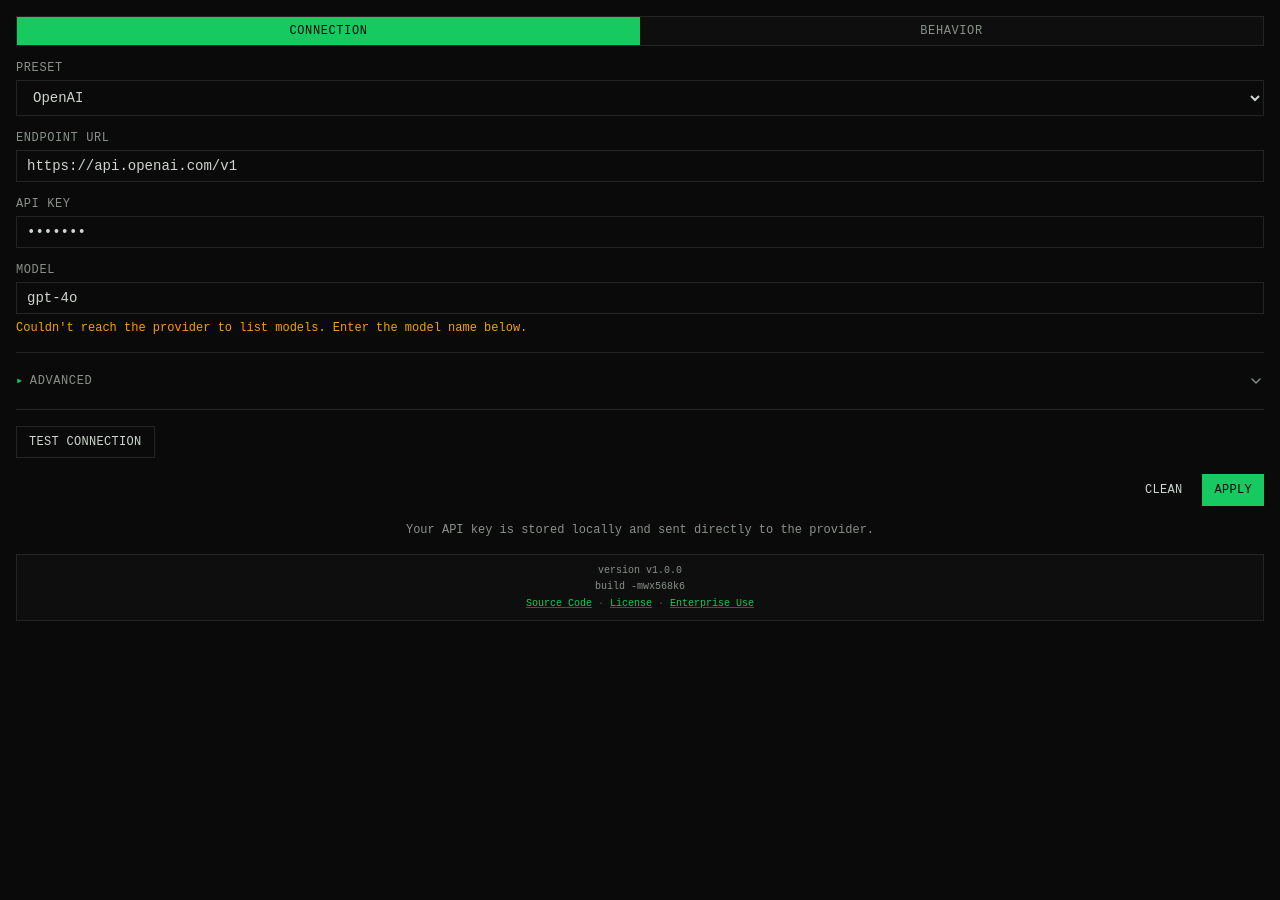
Test: SettingsPanel › shows 'Applied!' feedback after clicking Apply
Check: the text "Applied!" is not shown
What coordinates should you click on to do the following:
click the button "Apply"
I would click on:
 (1233, 490)
Its box is x1=1202 y1=474 x2=1264 y2=506.
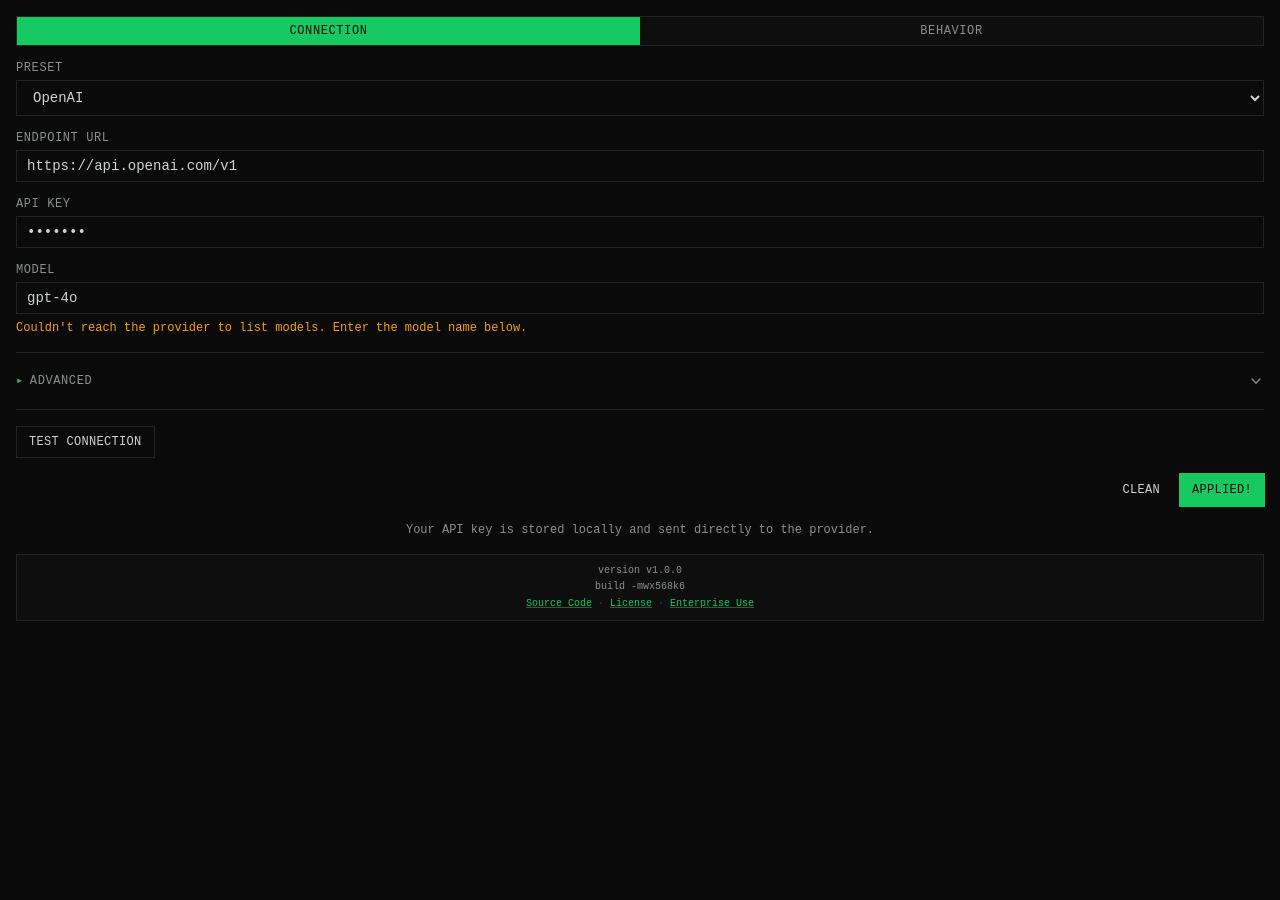
Check: the text "Applied!" is shown, box x1=1192 y1=482 x2=1252 y2=498
